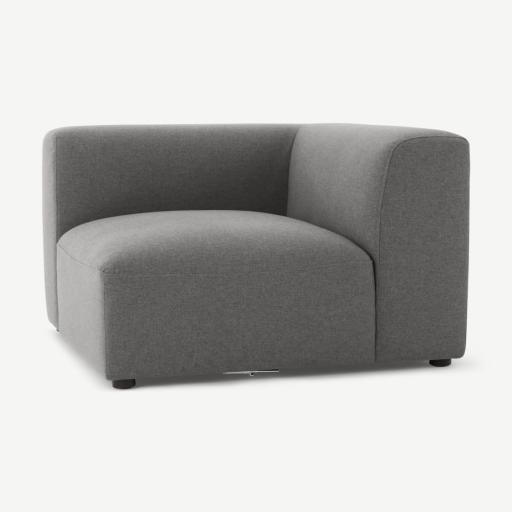back_cushion: (44, 124, 468, 360)
base: (59, 255, 374, 380)
legs: (113, 379, 136, 389), (429, 359, 451, 367), (248, 372, 256, 376)
seat_cushion: (59, 210, 369, 274)
